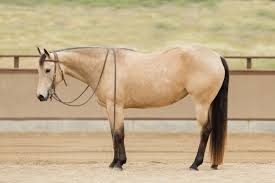Horse: (18, 39, 235, 170)
